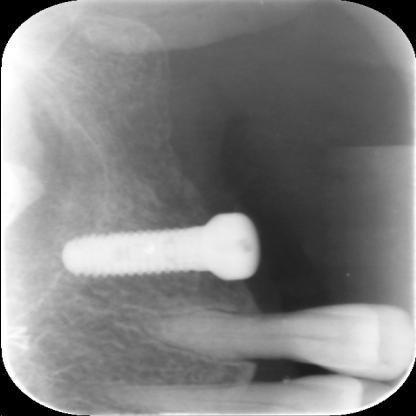Bego: (57, 219, 211, 280)
